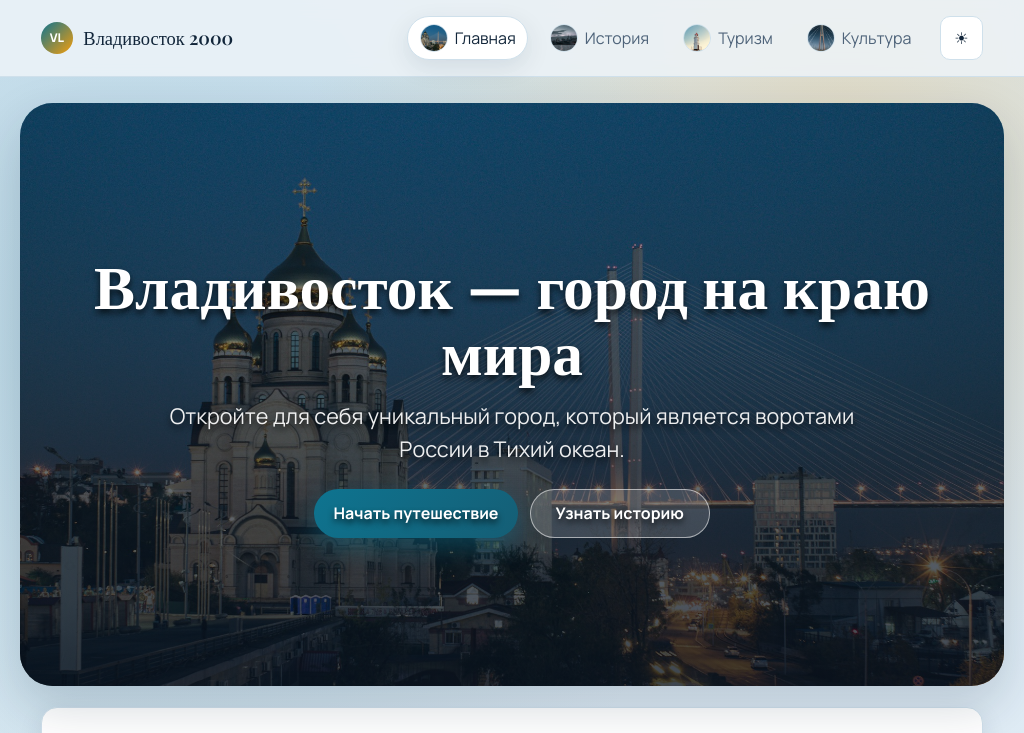
it: App smoke tests › toggles theme and persists to localStorage
Click the button named "включить темную тему" at {"x": 961, "y": 38}, box [940,16,983,60]
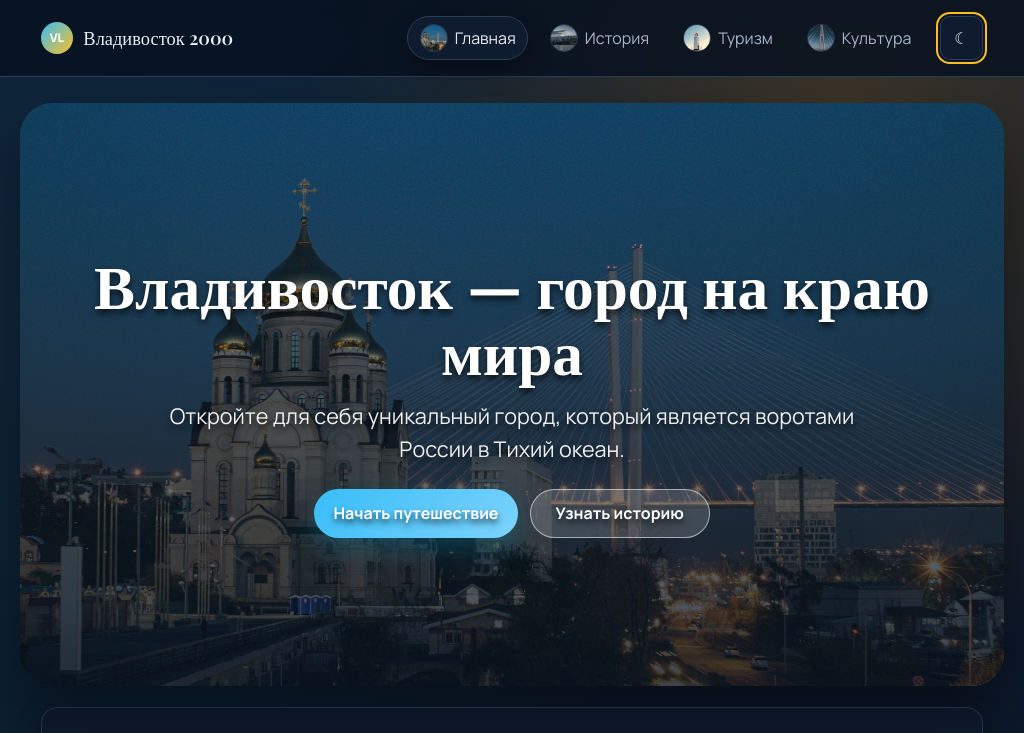
Expected: the button named "включить светлую тему" is shown, [940,16,983,60]
